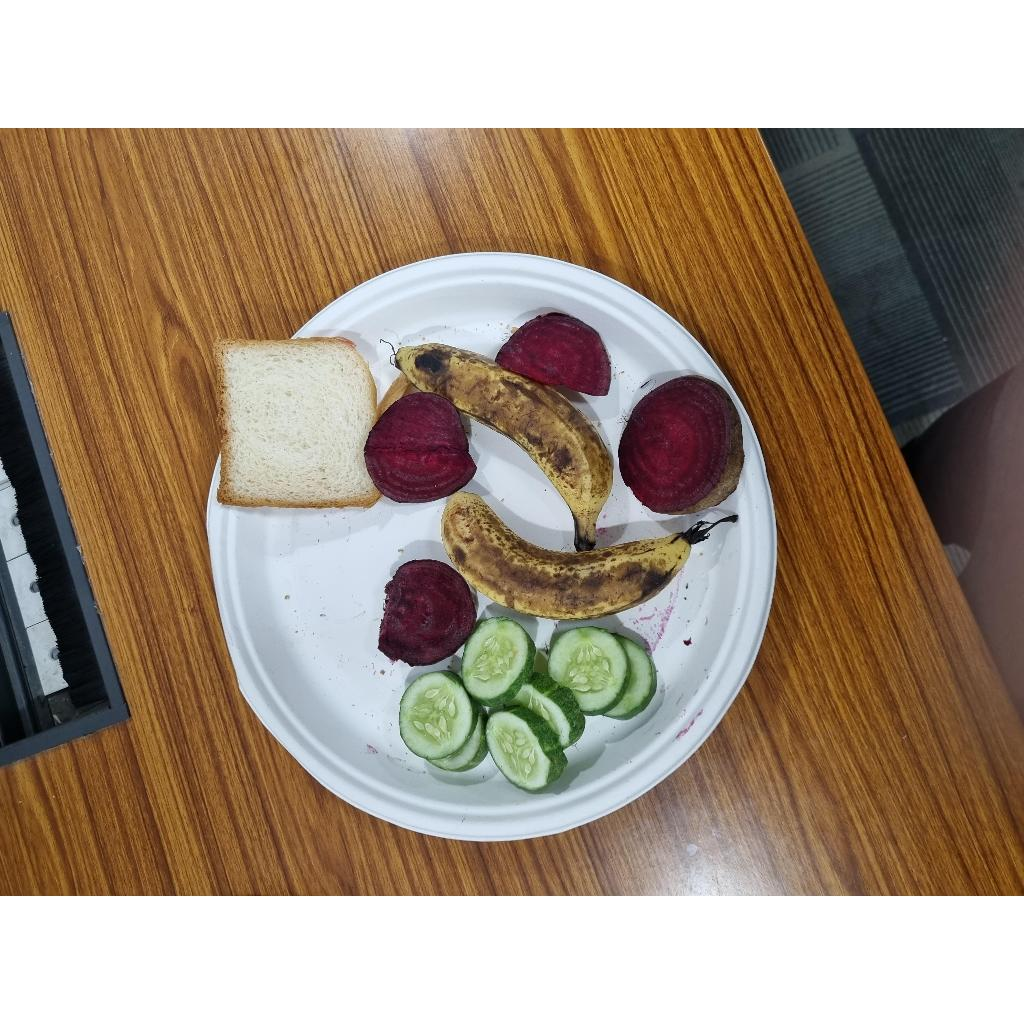banana: (397, 344, 612, 549), (441, 492, 691, 620)
